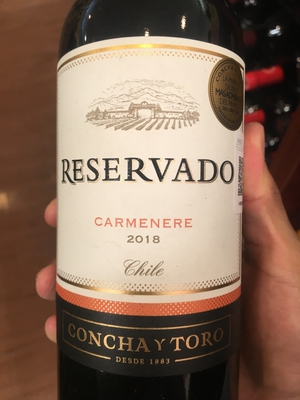reservado carmenere: (53, 3, 246, 400)
